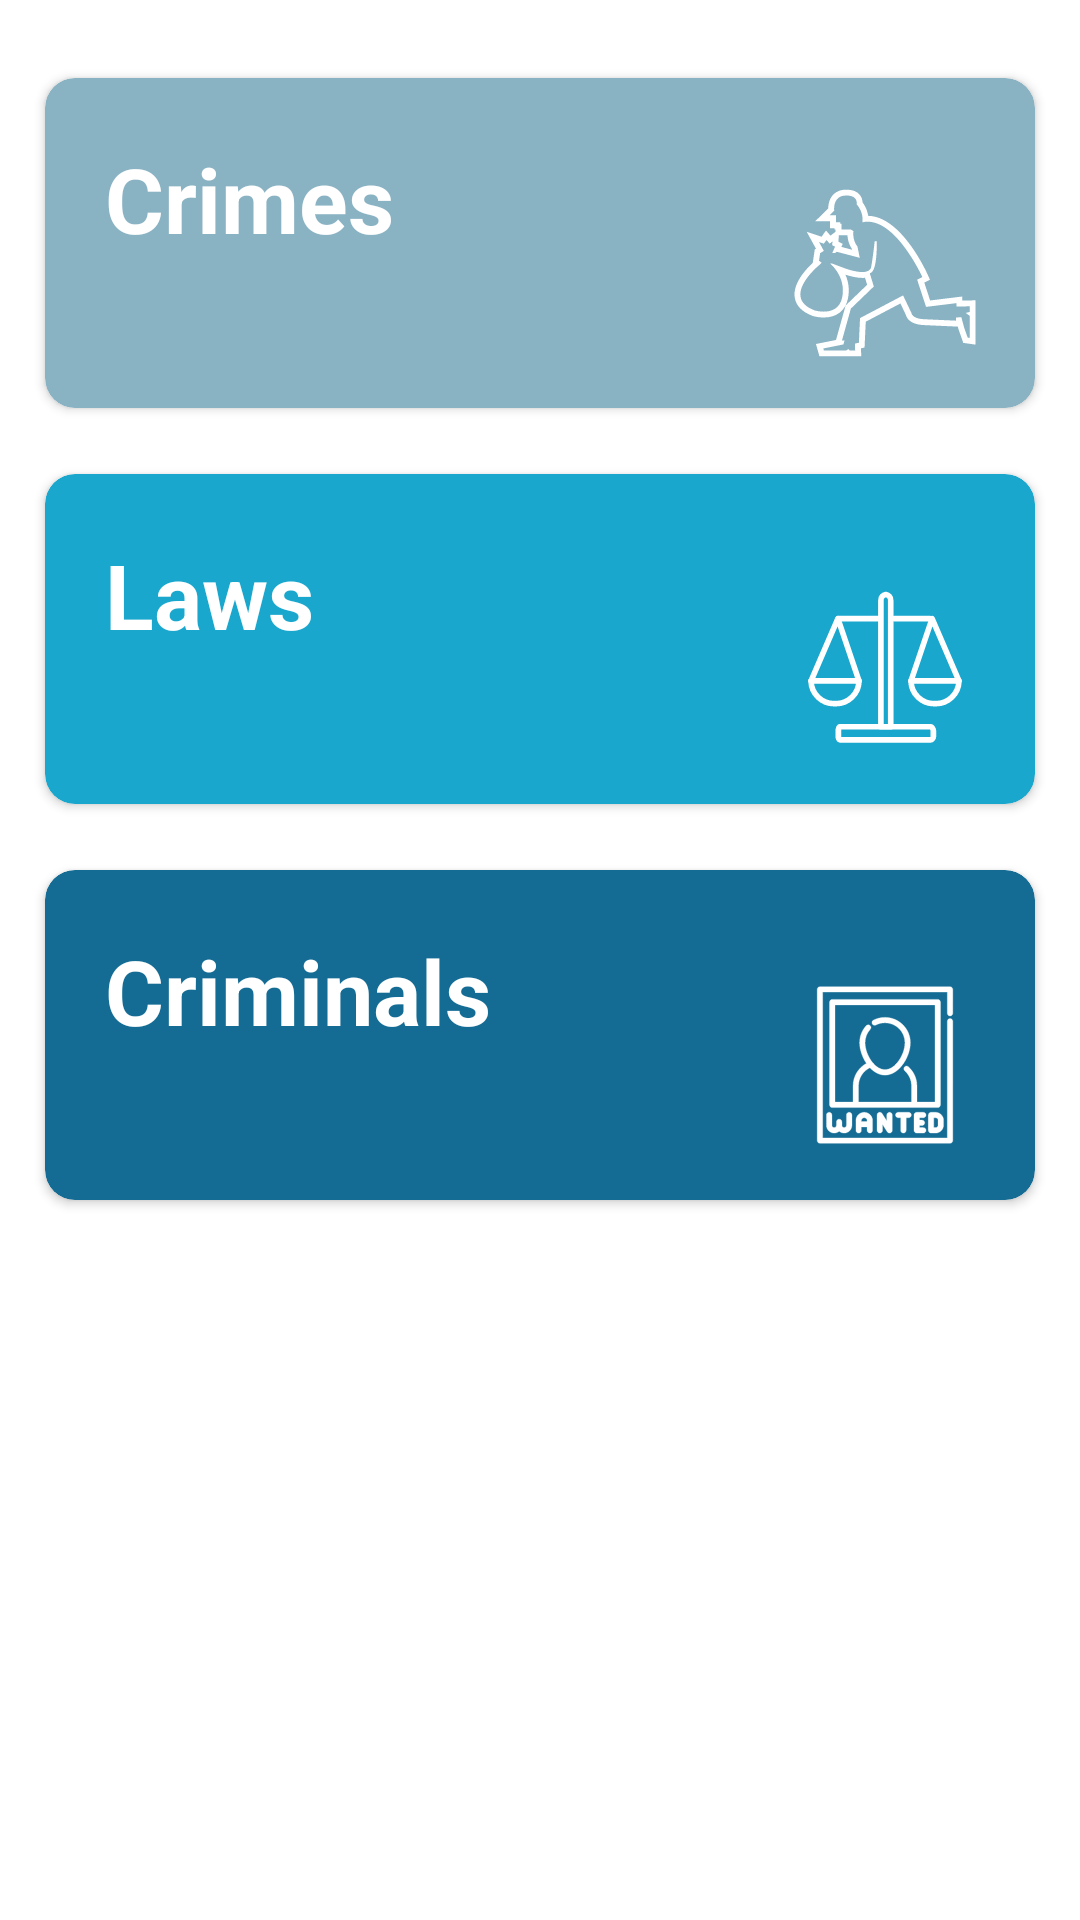

Screen size 1080*1920. Icon name, then its box in pixels as (x1,y1,x2,y2):
crime: (794,189,976,357)
criminal: (817,986,953,1144)
law: (808,591,962,743)
